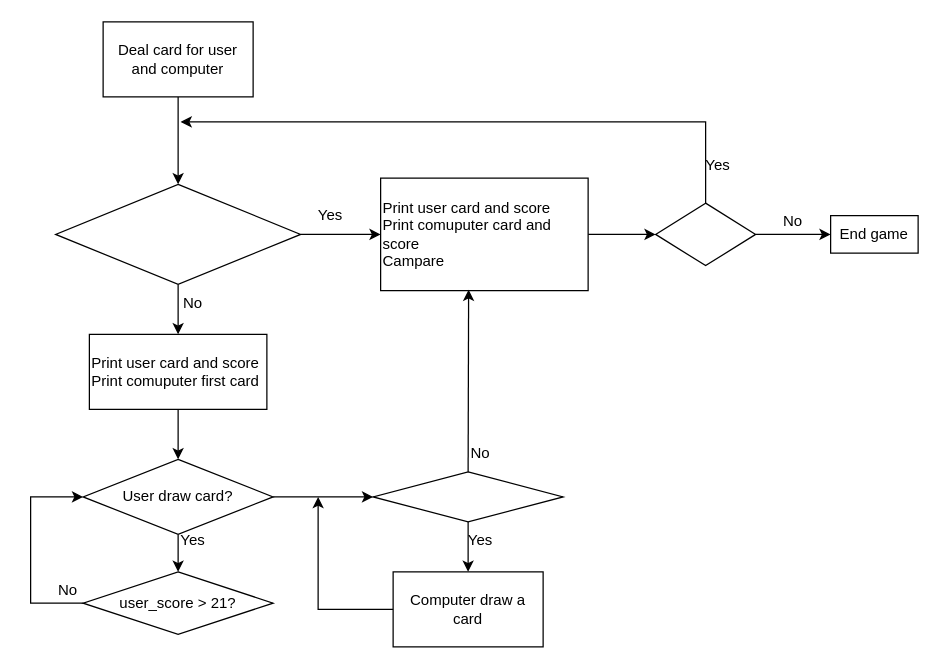
Image size: 940x669. Some labels were removed from this diagram. The shapes that lost their labels are listed below. From the top down, each one's box as (x1, y1, x2, y2) in pixels, then its label:
(54, 183, 301, 284): check if user or computer got a blackjack
(654, 202, 756, 266): Play again?
(372, 471, 563, 522): Computer_score < 17
